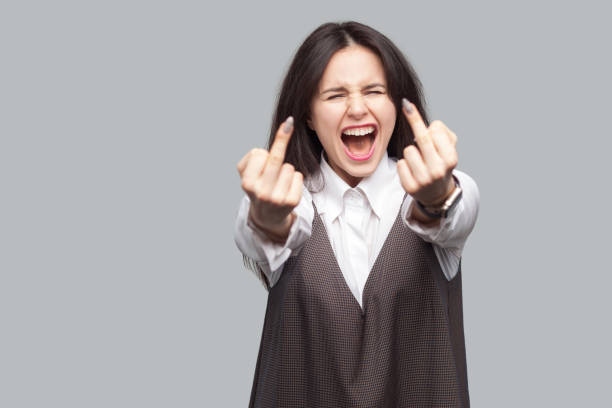insulting_gesture: (394, 97, 459, 208), (239, 114, 305, 214)
